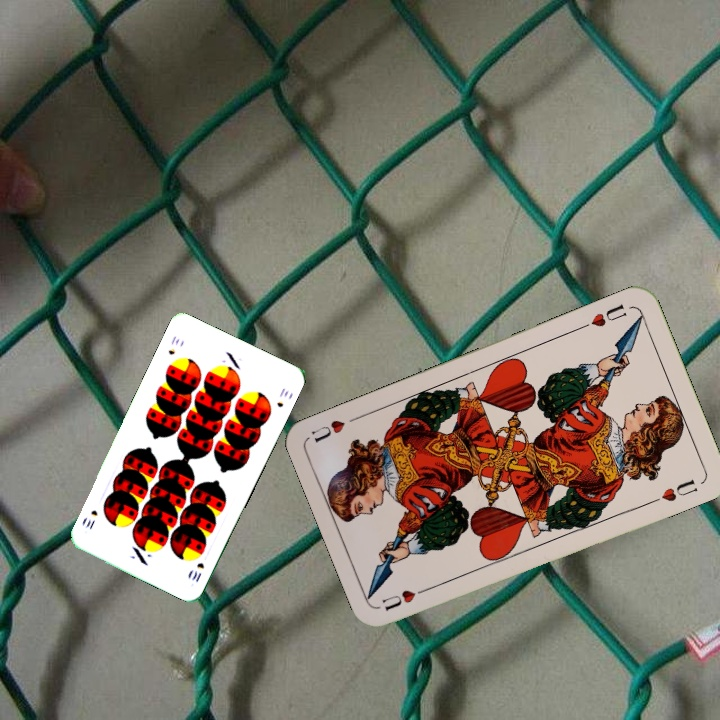HU: (378, 582, 434, 614), (577, 300, 629, 332)
S10: (188, 558, 207, 584), (164, 332, 182, 357)
